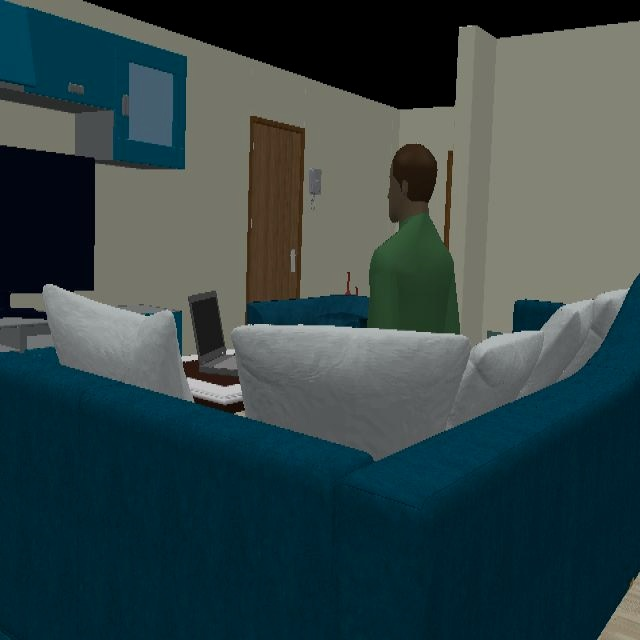cabinet: (0, 1, 186, 168)
laptop: (189, 292, 238, 376)
monitor: (0, 145, 95, 318)
person: (368, 145, 460, 332)
pillow: (231, 325, 470, 459), (44, 285, 192, 401), (448, 333, 544, 429), (519, 300, 593, 396)
sofa: (0, 275, 640, 638), (248, 295, 368, 328), (510, 300, 558, 330)
table: (182, 355, 244, 412)
